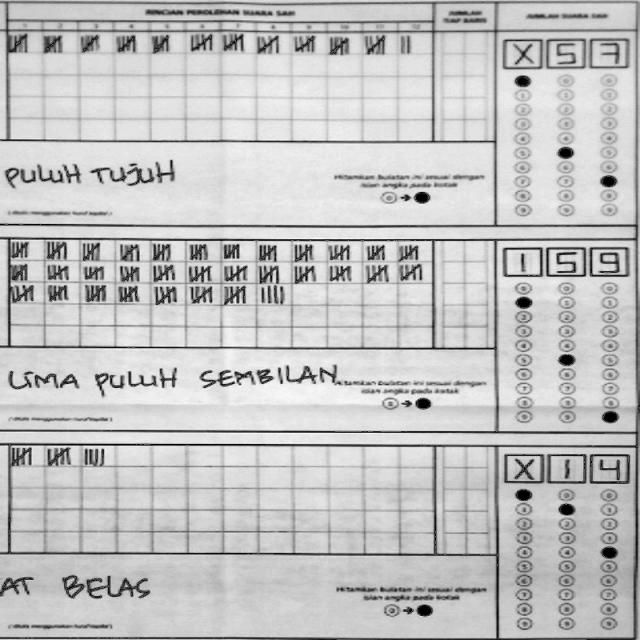Suara: (498, 442, 630, 483), (494, 242, 626, 275), (500, 37, 630, 67)
